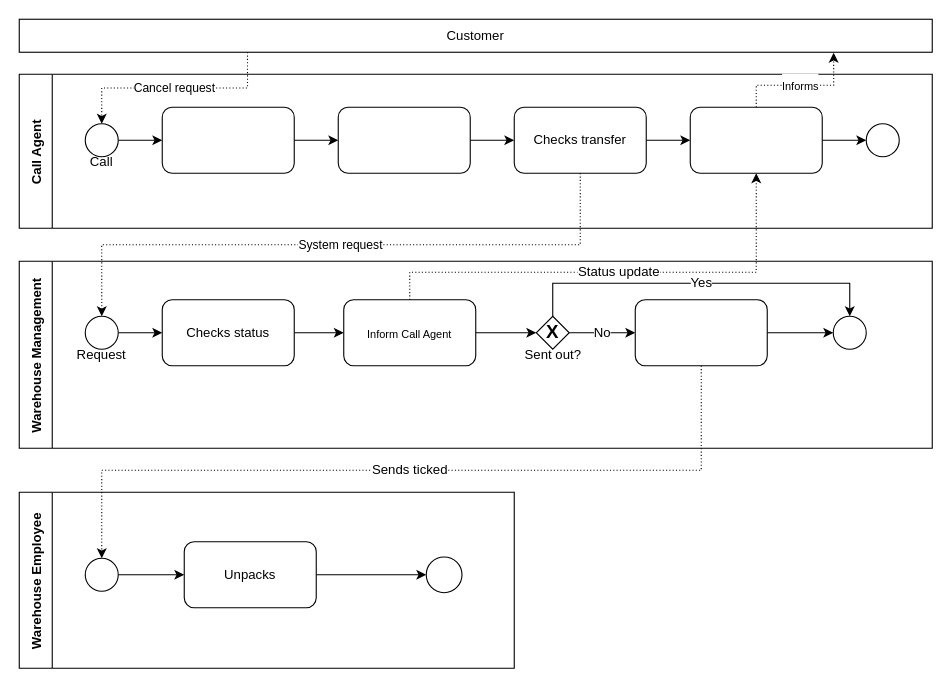
The diagram is 952 pixels wide and 688 high, and some of its shapes have lost their labels. The shapes that lost their labels are listed below. From the top down, each one's centre as x and y in pixels, then its label:
(227,139): cancellation
(403,139): Ask reason
(755,139): Inform customer
(700,332): Unpacking ticked
